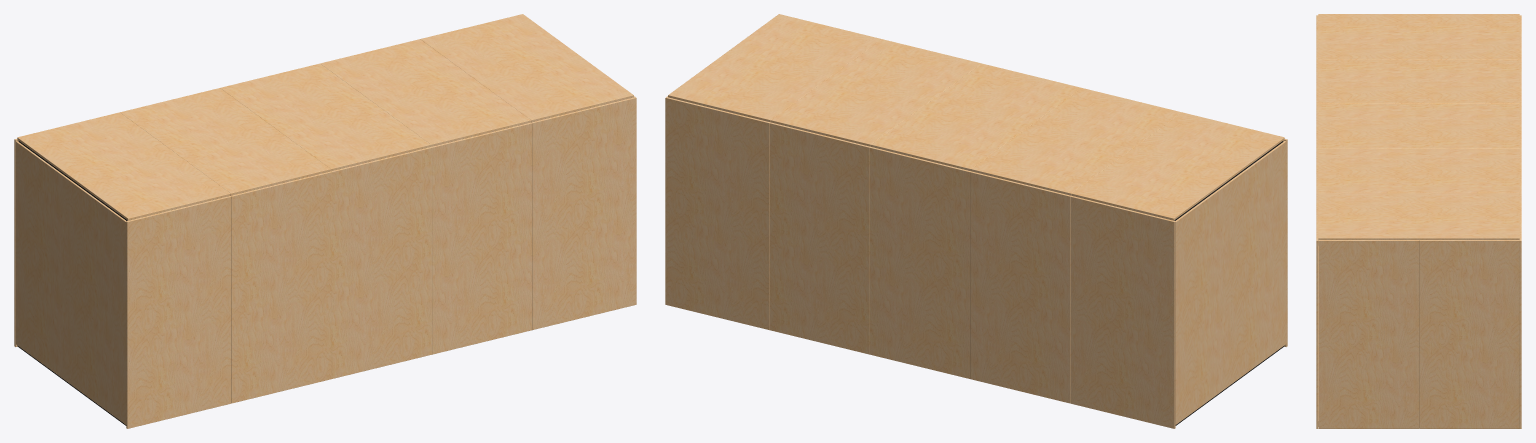
The model's file is SM_L01_PlywoodWall_01.glb.
3 renders of one model, left to right at view 1: azimuth 30°, elevation 25°; view 2: azimuth 150°, elevation 25°; view 3: azimuth 270°, elevation 25°, orthographic. The views are drawn at different scales.
Visible parts, largest first — view 1: SM_L01_PlywoodWall_01; view 2: SM_L01_PlywoodWall_01; view 3: SM_L01_PlywoodWall_01.
Part boxes in pixels (x1,y1,x2,y2): SM_L01_PlywoodWall_01: [14, 14, 636, 428]; SM_L01_PlywoodWall_01: [665, 14, 1287, 428]; SM_L01_PlywoodWall_01: [1316, 14, 1521, 428].
Bounding box in the file's own units: 5.92 × 2.33 × 2.27.
Materials: 4 (1 with a texture image).
